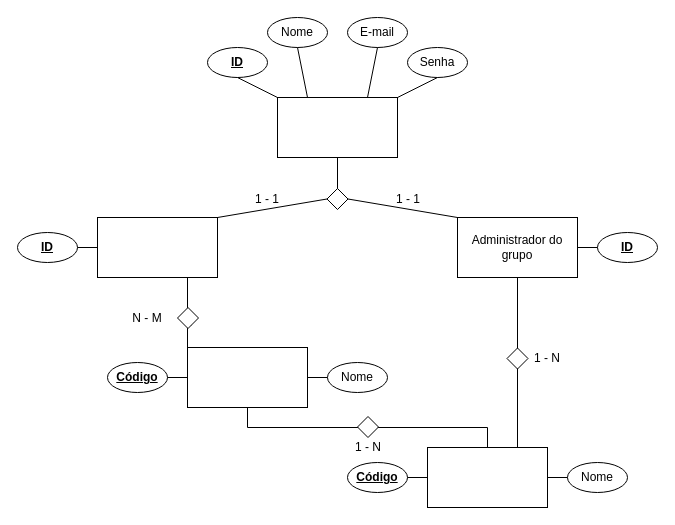
Image size: 675x525. Some labels were removed from this diagram. The shapes that lost their labels are listed below. From the top down, each one's centre as x and y in pixels, then its label:
point 337,127: Usuário
point 157,247: Participante
point 247,377: Comunidade
point 487,477: Grupo
